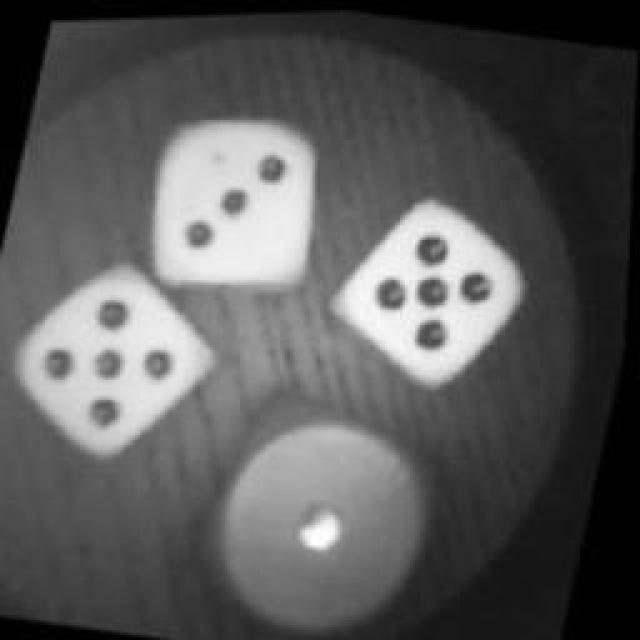dice_1: (175, 370, 470, 640)
dice_3: (134, 94, 341, 308)
dice_5: (0, 240, 235, 478), (315, 174, 547, 408)
